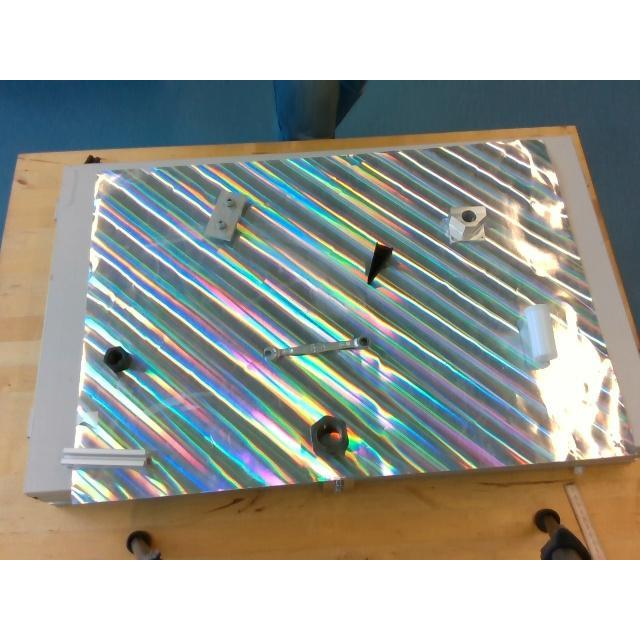F20_20_G: (61, 446, 147, 466)
M20: (103, 346, 131, 374)
M30: (310, 415, 348, 455)
Spacer: (518, 304, 556, 364)
Wrench: (260, 336, 368, 359)
